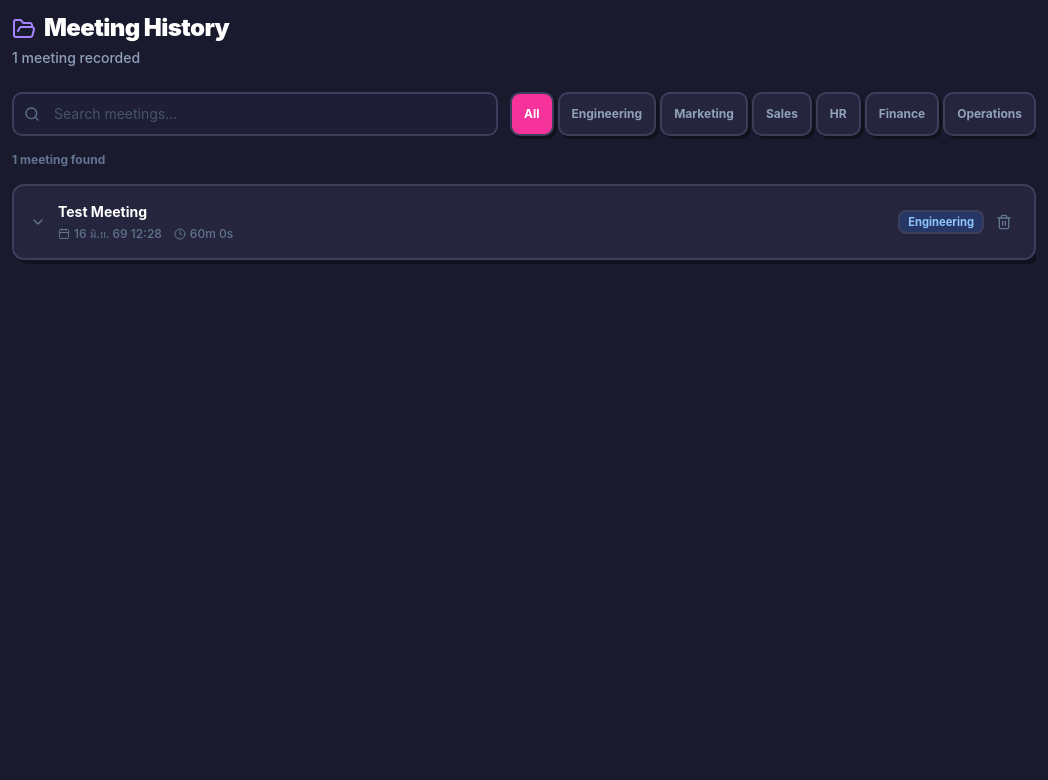
it: MeetingHistory Component › Meeting Expansion › should expand meeting to show details
The image size is (1048, 780).
Click the button "Test Meeting 16 มิ.ย. 69 12:28 60m 0s" at point(103, 212), box [30,202,898,242]
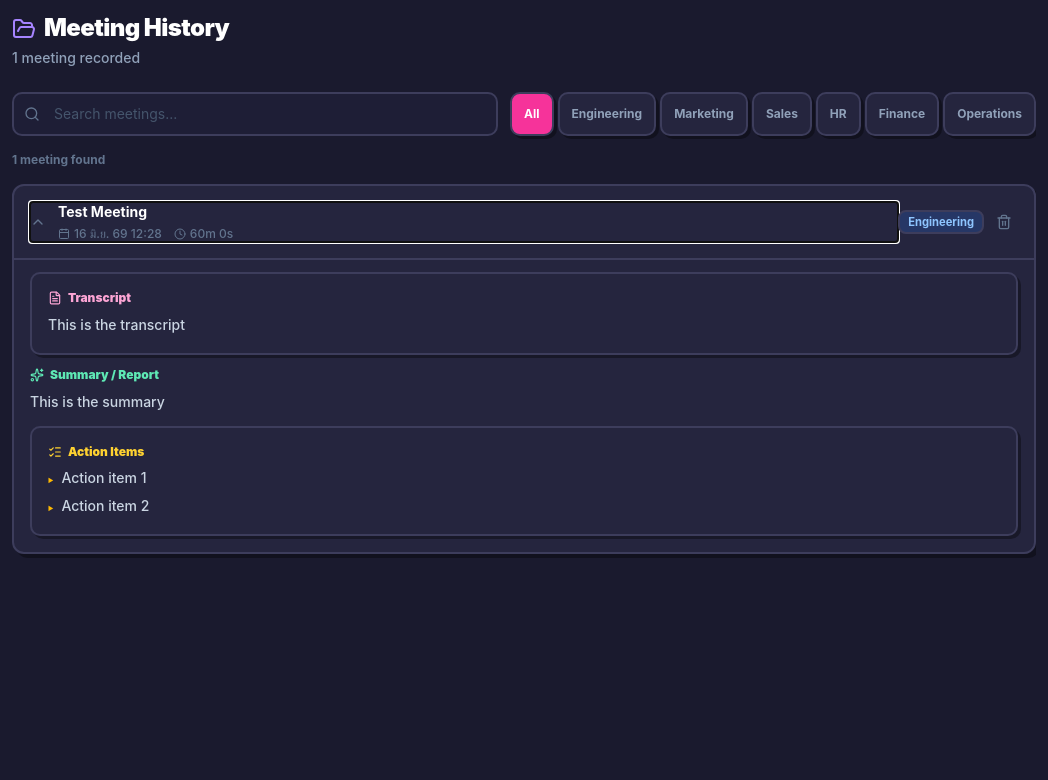
Expected: the text "This is the transcript" is shown, [48,316,185,333]
Expected: the text "This is the summary" is shown, [30,393,165,410]
